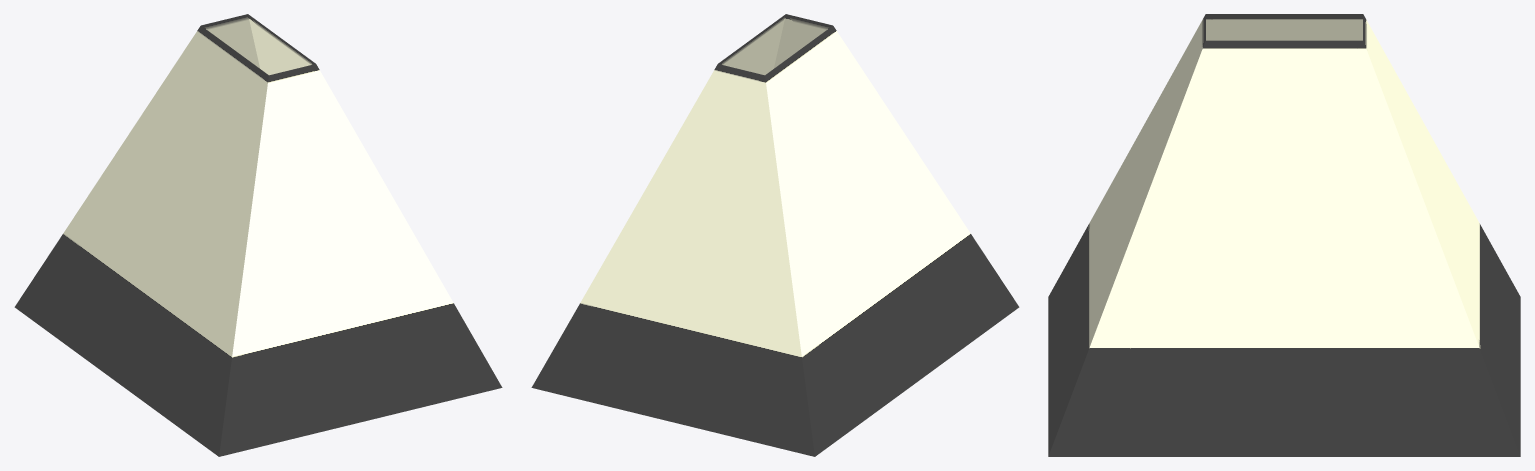
The model's file is ceiling_lamp_2_fake_light_1.glb.
3 renders of one model, left to right at view 1: azimuth 30°, elevation 25°; view 2: azimuth 150°, elevation 25°; view 3: azimuth 270°, elevation 25°, orthographic. The views are drawn at different scales.
Parts seen in each view (by area): view 1: ceiling_lamp_2_fake_light_1; view 2: ceiling_lamp_2_fake_light_1; view 3: ceiling_lamp_2_fake_light_1.
Part boxes in pixels (bbox=[...]): ceiling_lamp_2_fake_light_1: bbox=[14, 14, 502, 456]; ceiling_lamp_2_fake_light_1: bbox=[531, 14, 1019, 456]; ceiling_lamp_2_fake_light_1: bbox=[1048, 14, 1520, 456].
Size of the model in its own units: 2.4 by 2.45 by 3.
1 material, 1 textured.
